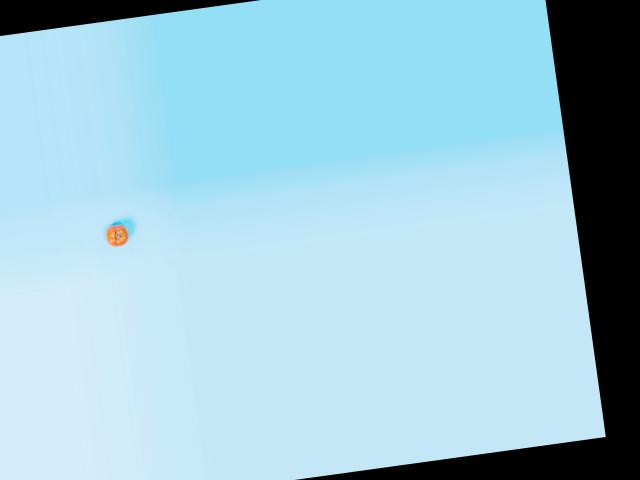tomato: (105, 223, 131, 248)
